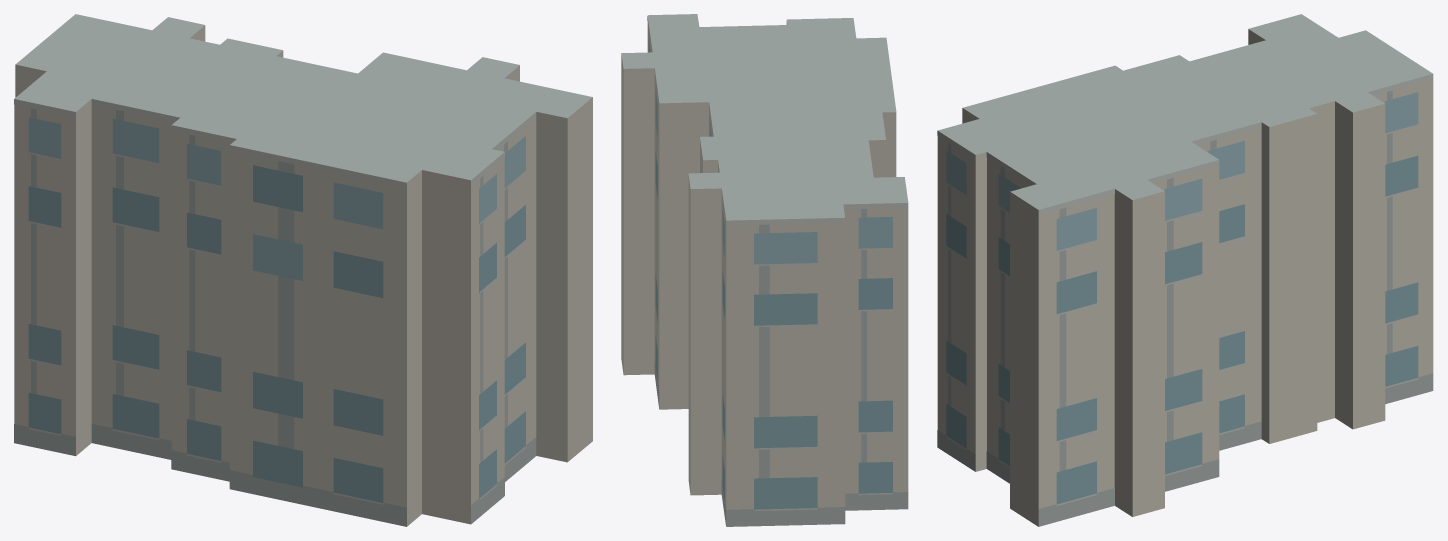
Rendered from residential-71dcaa6a-f715-4f98-9da0-58062abdcf20.glb.
The picture shows the model from 3 angles, left to right: view 1: azimuth 30°, elevation 25°; view 2: azimuth 150°, elevation 25°; view 3: azimuth 270°, elevation 25°; orthographic projection. The views are drawn at different scales.
Visible parts, largest first — view 1: residential-71dcaa6a-f715-4f98-9da0-58062abdcf20.tmp; view 2: residential-71dcaa6a-f715-4f98-9da0-58062abdcf20.tmp; view 3: residential-71dcaa6a-f715-4f98-9da0-58062abdcf20.tmp.
Part boxes in pixels (x1,y1,x2,y2): residential-71dcaa6a-f715-4f98-9da0-58062abdcf20.tmp: [14, 14, 592, 526]; residential-71dcaa6a-f715-4f98-9da0-58062abdcf20.tmp: [621, 14, 908, 526]; residential-71dcaa6a-f715-4f98-9da0-58062abdcf20.tmp: [937, 14, 1433, 526].
Size of the model in its own units: 19.49 by 14.7 by 20.85.
